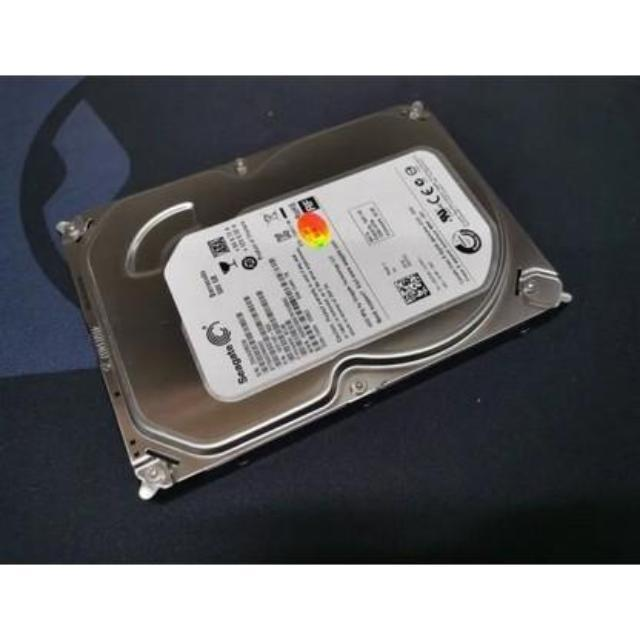DISK: (44, 92, 582, 517)
